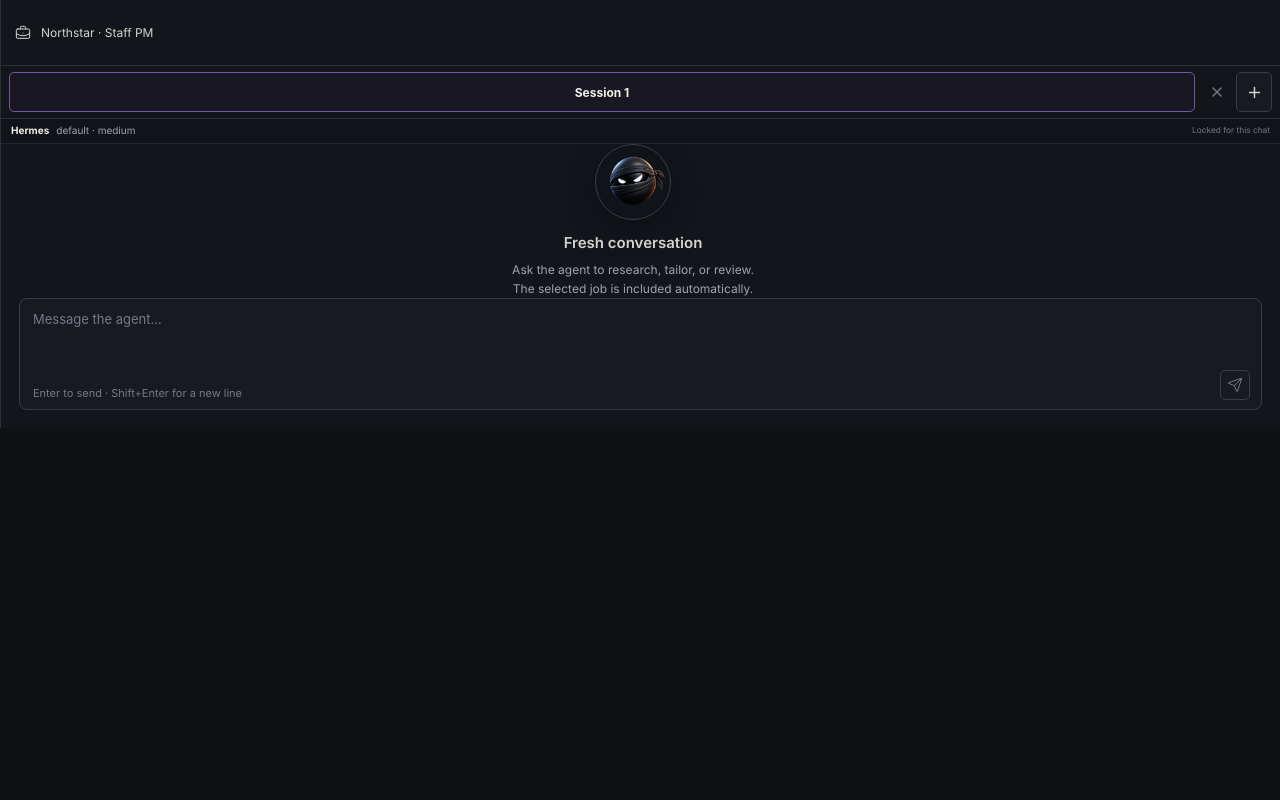
Test: closing an unsent draft offers keep writing or explicit discard before archiving
Type "Do not lose this instruction" into the text box labelled "Message the agent". click: (642,340)
box: [33,310,1250,370]
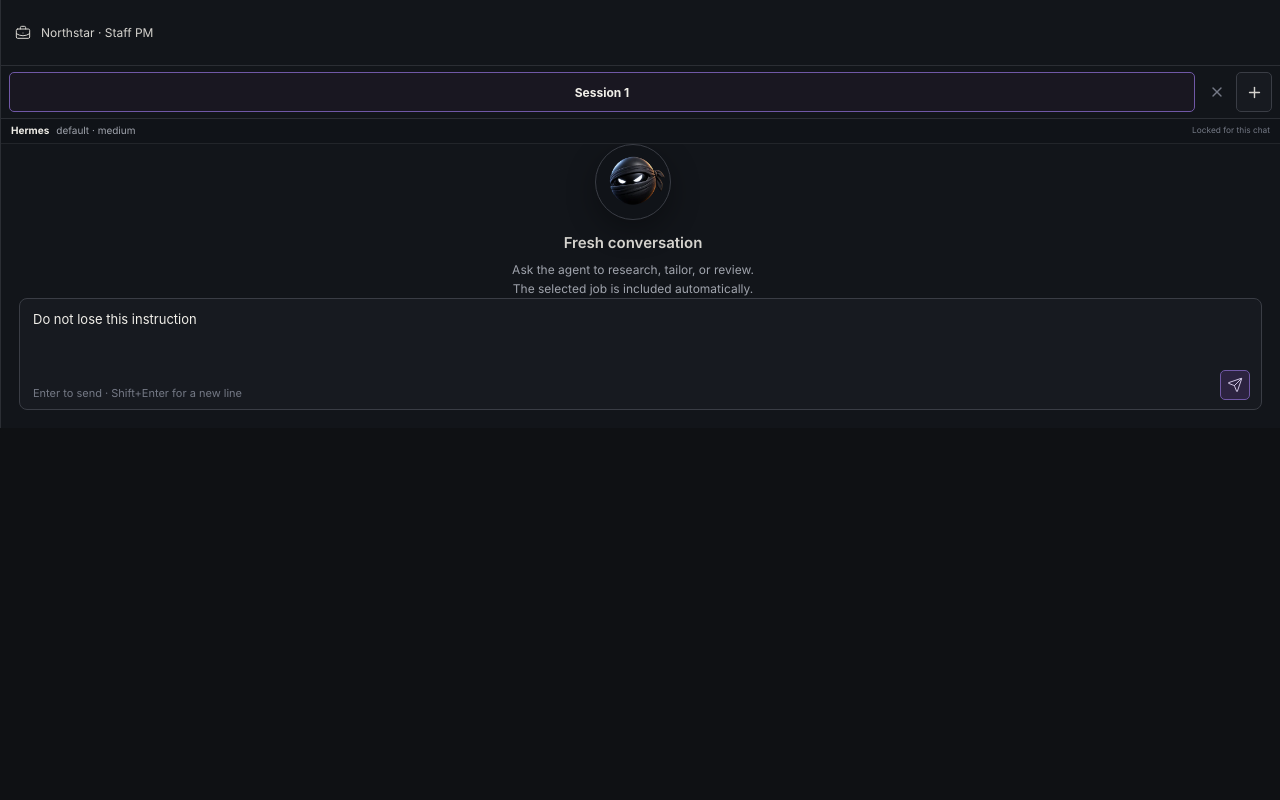
Click the button named "Close Session 1". click: (1216,92)
box: [1201,72,1232,112]
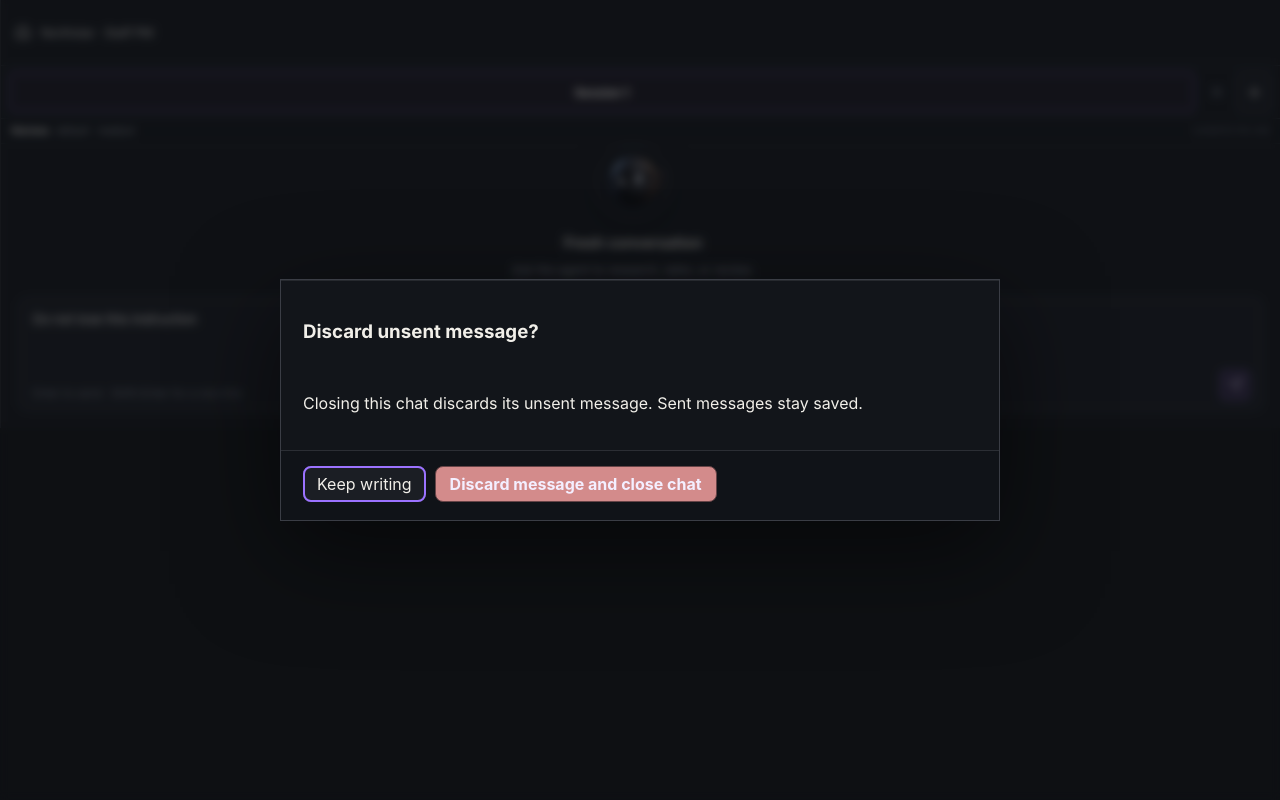
Expected: the dialog "Discard unsent message?" is shown, [280,279,1000,521]
Click the button "Keep writing". click: (364,484)
box: [303,466,426,502]
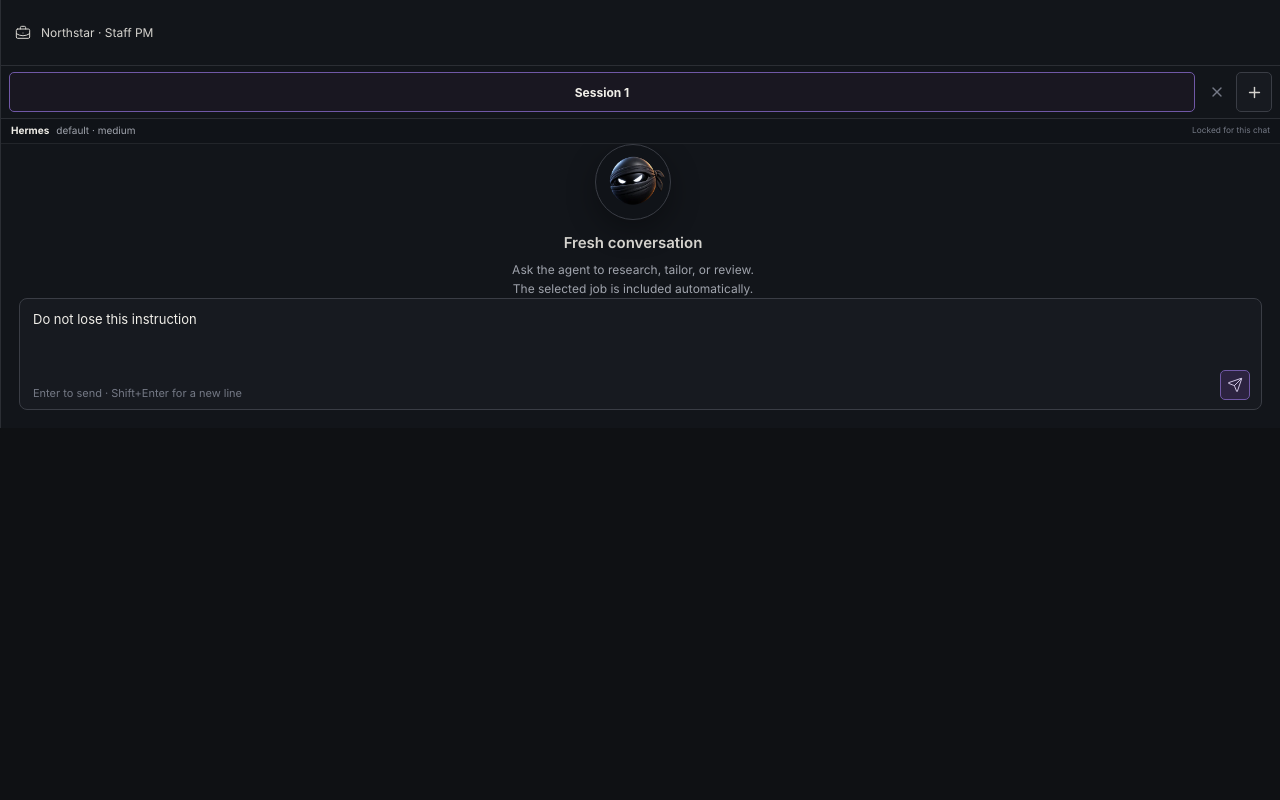
Expected: the dialog is gone
Click the button named "Close Session 1". click: (1216,92)
box: [1201,72,1232,112]
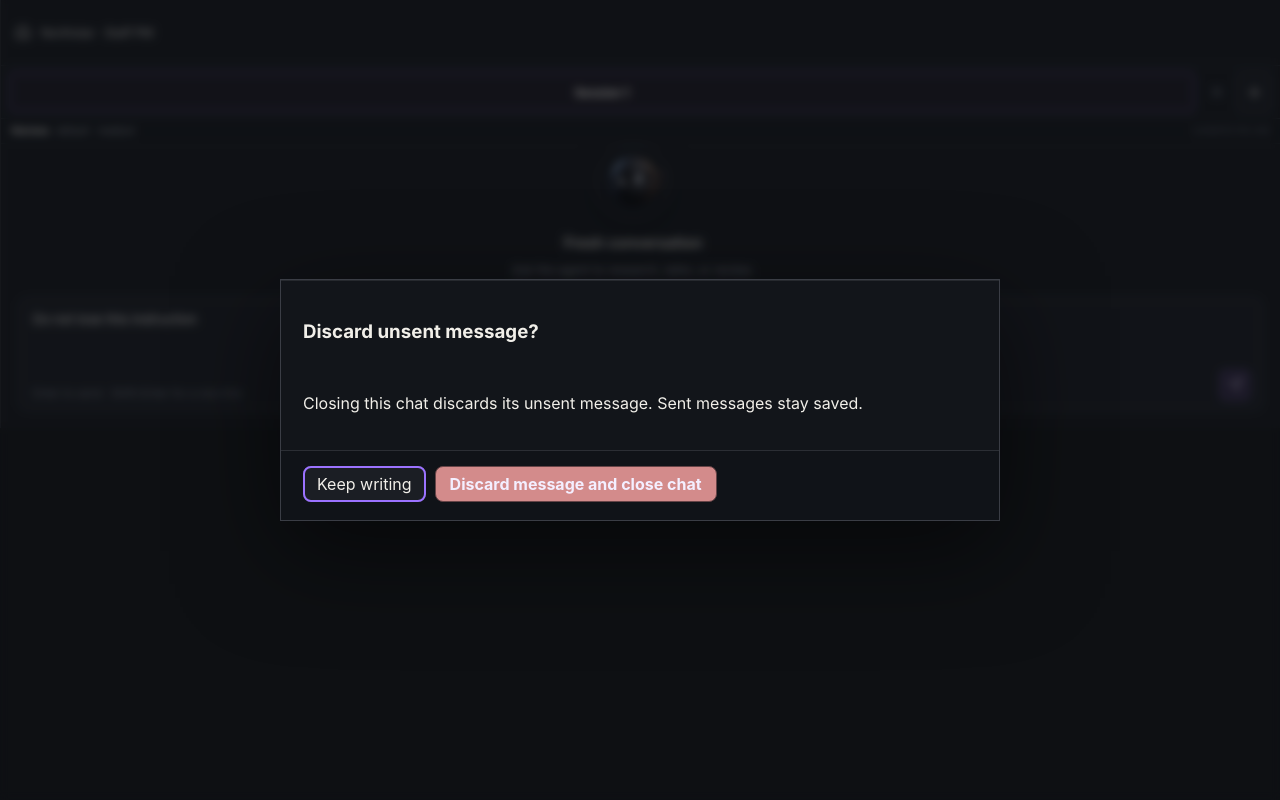
Click the button "Discard message and close chat". click: (576,484)
box: [435,466,717,502]
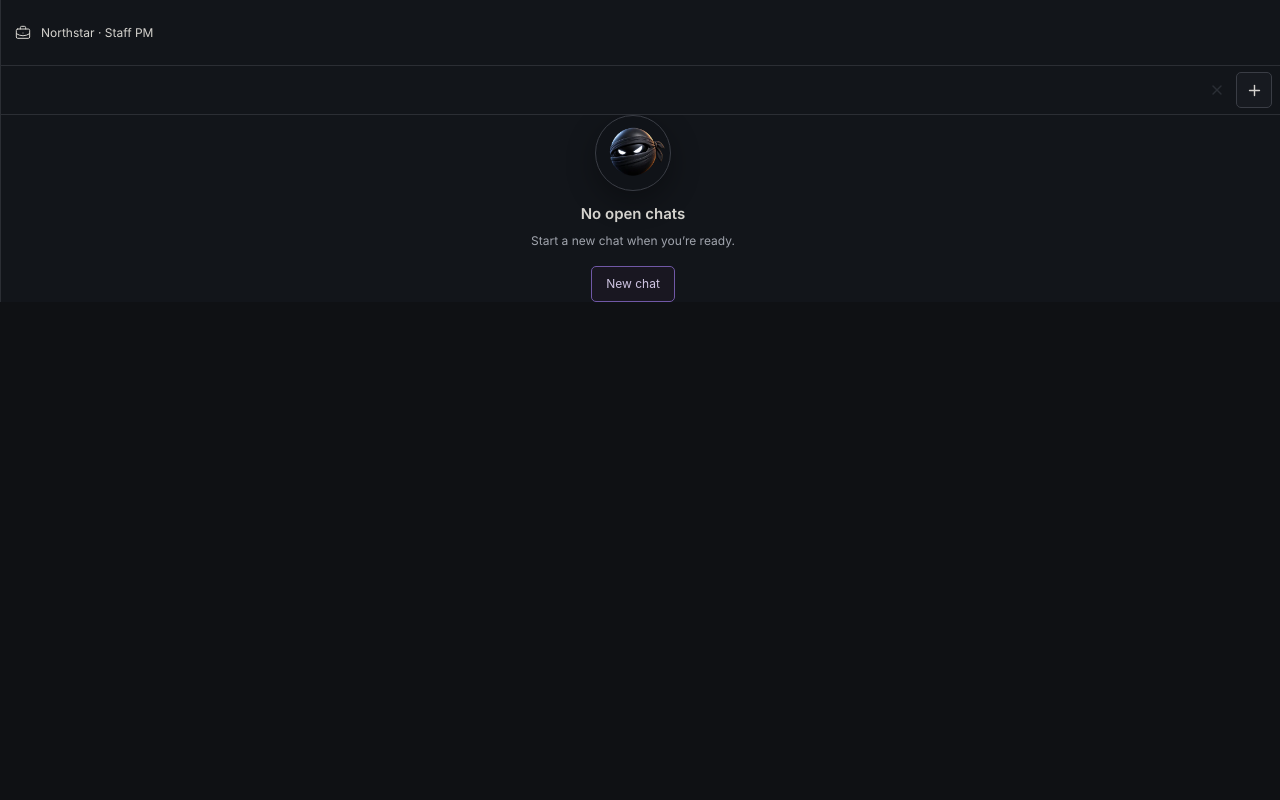
Expected: the heading "No open chats" is shown, [581,204,685,223]
